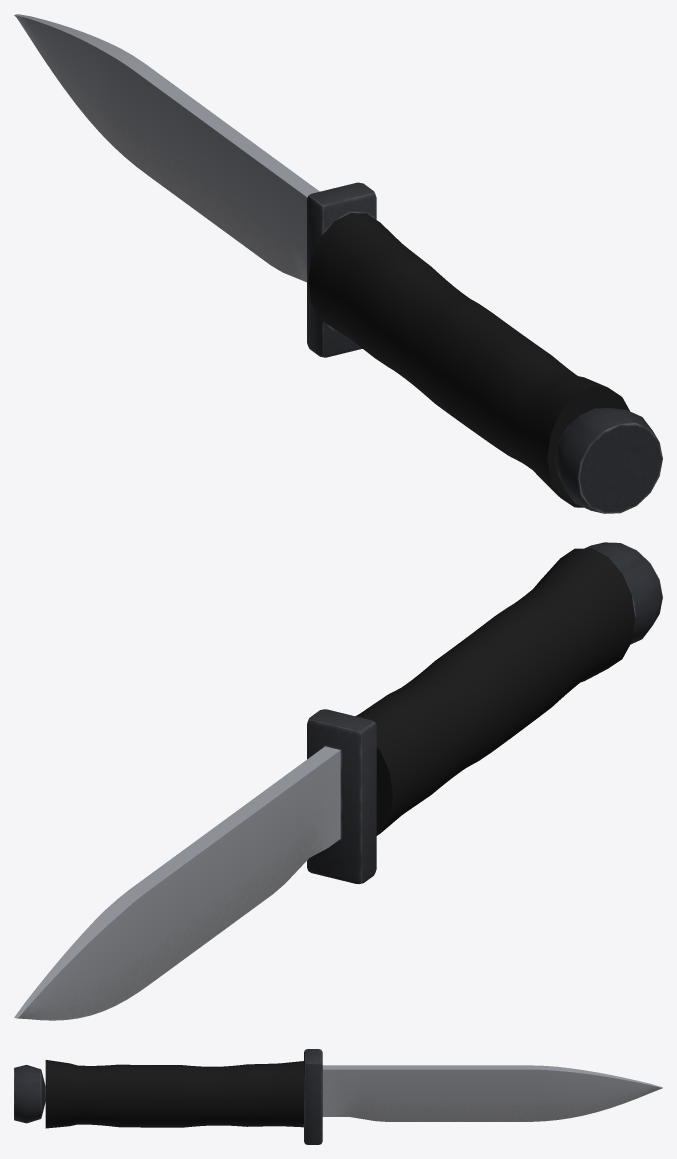
File: knife.glb
The picture shows the model from 3 angles, top to bottom: view 1: azimuth 30°, elevation 25°; view 2: azimuth 150°, elevation 25°; view 3: azimuth 270°, elevation 25°; orthographic projection. The views are drawn at different scales.
Visible parts, largest first — view 1: Knife; view 2: Knife; view 3: Knife.
Boxes of the visible parts, x1,y1,x2,y2 form: Knife: [14, 14, 662, 513]; Knife: [14, 542, 662, 1020]; Knife: [14, 1049, 662, 1144].
Size of the model in its own units: 0.028 by 0.044 by 0.309.
1 material, 1 textured.
